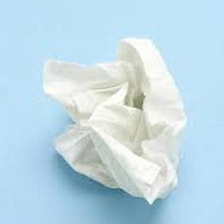tissue: (36, 29, 194, 210)
